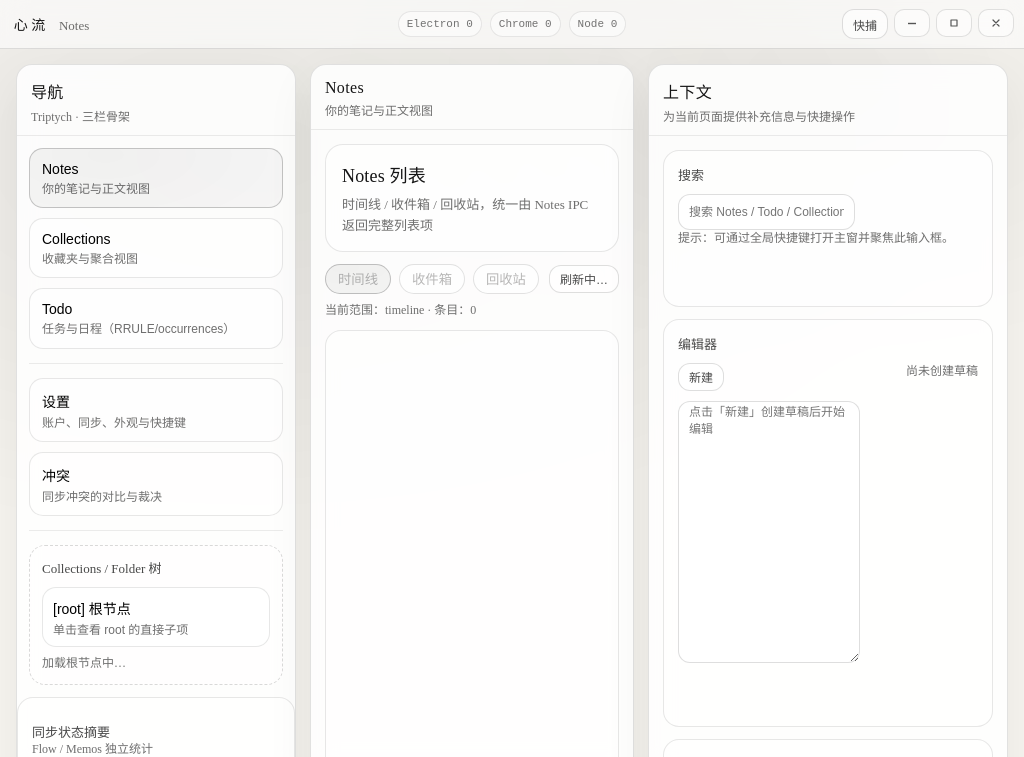
<App /> › 冲突中心：进入冲突路由后渲染 Flow/Notes 两类真实列表
Click the button with test id "nav-conflicts": click(156, 484) [29,452,283,516]
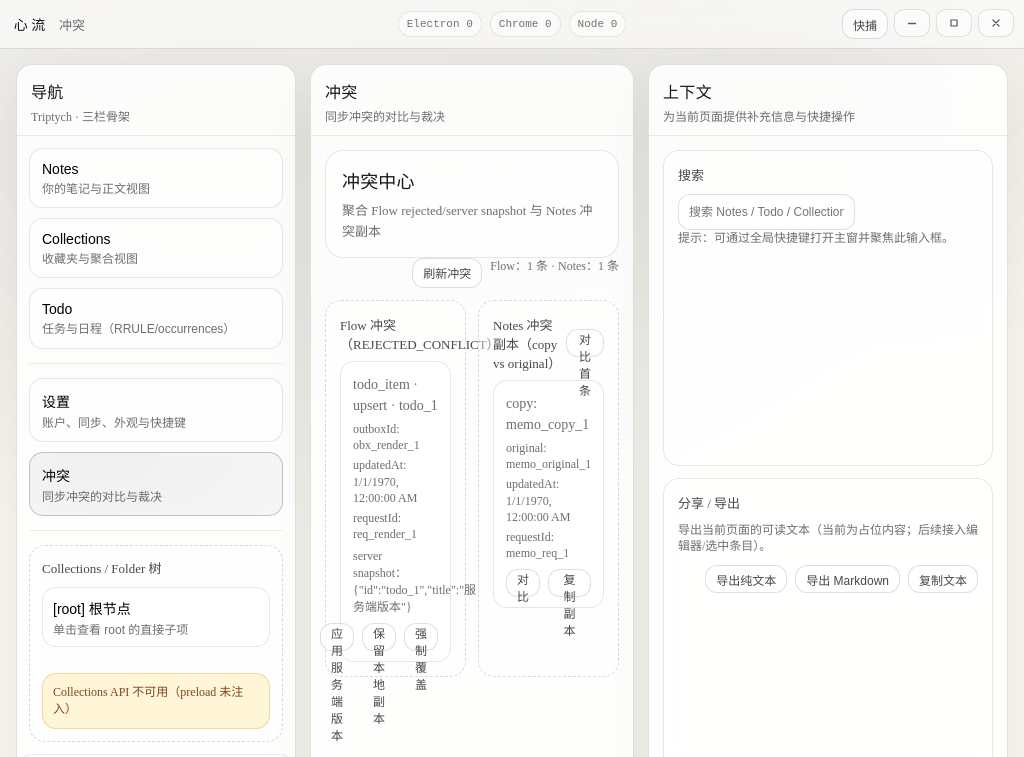
Check: the element with test id "conflicts-flow-list" is shown, box [325,300,466,678]
Check: the element with test id "conflicts-notes-list" is shown, box [478,300,619,678]
Check: the element with test id "conflicts-flow-item-obx_render_1" is shown, box [340,361,451,662]
Click the button with test id "conflict-compare": click(585, 343) [566,329,604,357]
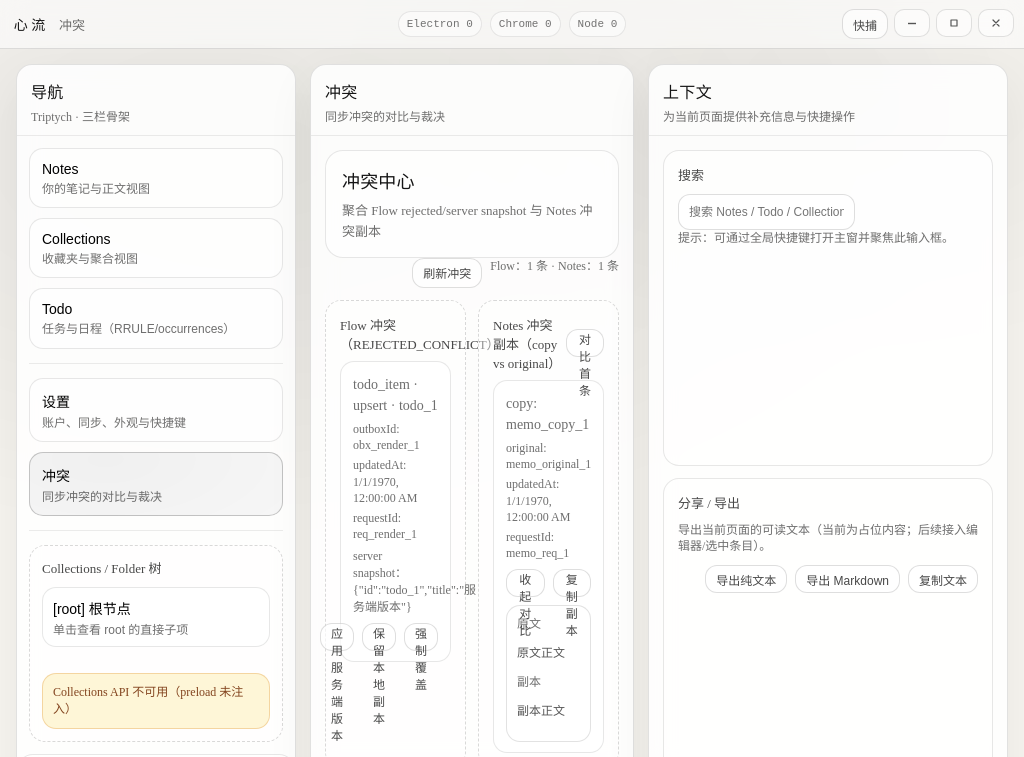
Check: the button with test id "conflicts-notes-compare-memo_copy_1" is shown, box [506,569,544,597]
Check: the button with test id "conflicts-notes-copy-memo_copy_1" is shown, box [552,569,591,597]
Check: the element with test id "conflicts-notes-compare-panel-memo_copy_1" is shown, box [506,605,591,742]
